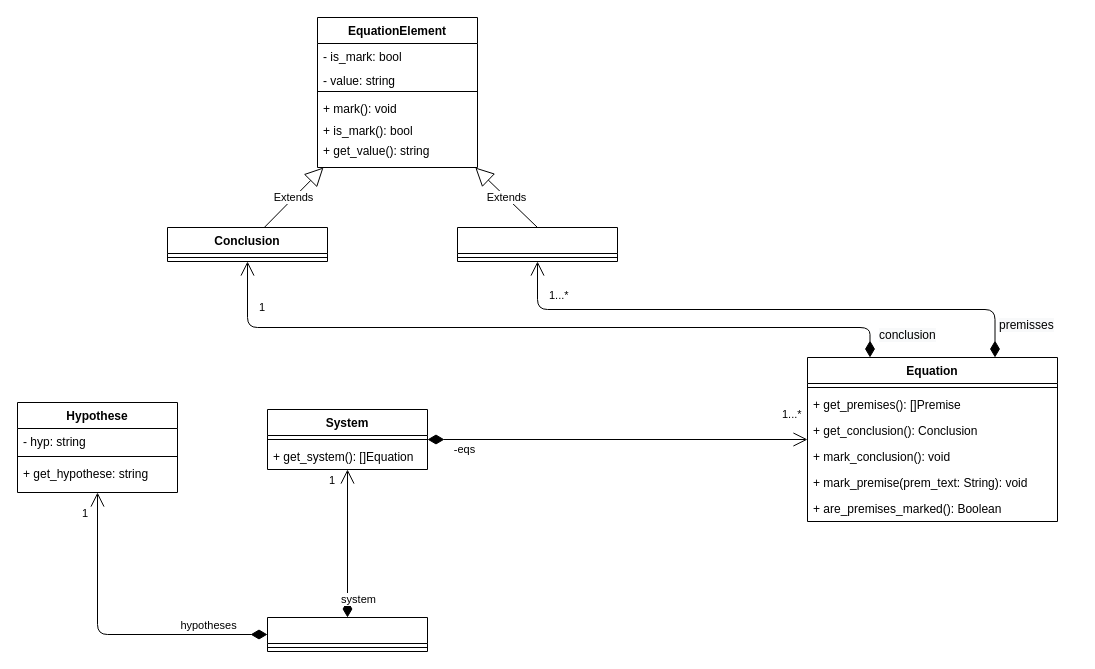
The diagram is 1095 pixels wide and 669 high, and some of its shapes have lost their labels. Each missing label, with the centre of its shape:
"Main" goes at point (347, 634).
"Premise" goes at point (537, 244).
